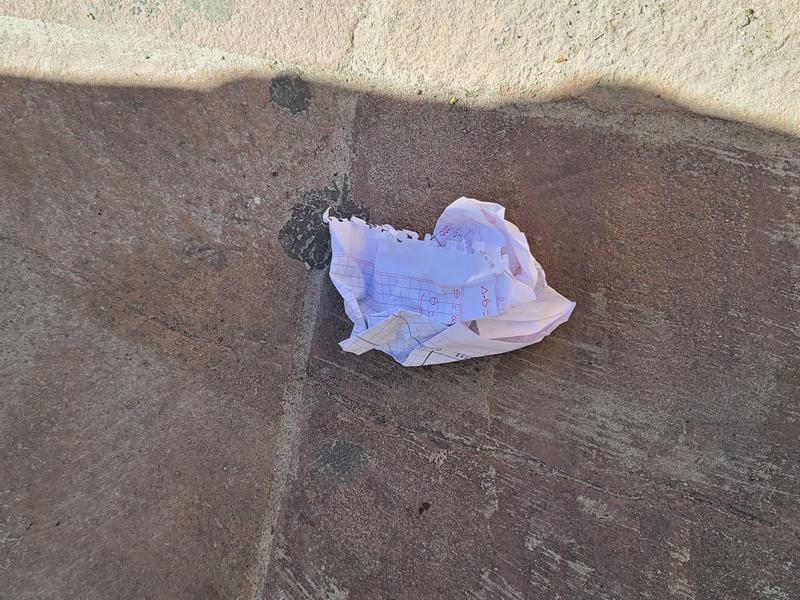papel: (324, 199, 573, 368)
